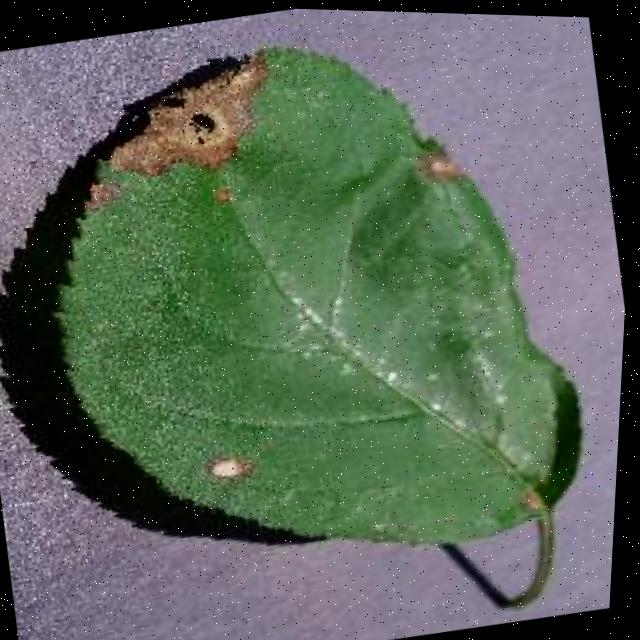black_rot: (89, 38, 289, 190), (400, 135, 479, 196), (77, 168, 122, 218), (195, 173, 246, 217)
